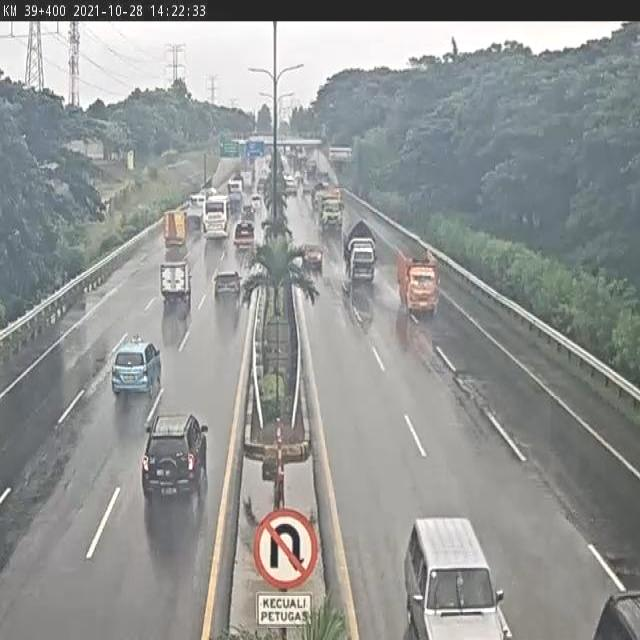Bus: (201, 193, 230, 240)
Car: (141, 411, 209, 506), (112, 336, 161, 396), (212, 269, 242, 304), (302, 243, 324, 272), (241, 200, 255, 220), (250, 194, 263, 214)
Truck: (397, 247, 440, 319), (342, 219, 377, 288), (160, 260, 192, 306), (317, 190, 344, 233), (163, 209, 188, 248), (183, 192, 206, 229), (233, 219, 256, 251), (226, 177, 244, 210), (311, 180, 329, 208)
Van: (399, 518, 508, 638)
